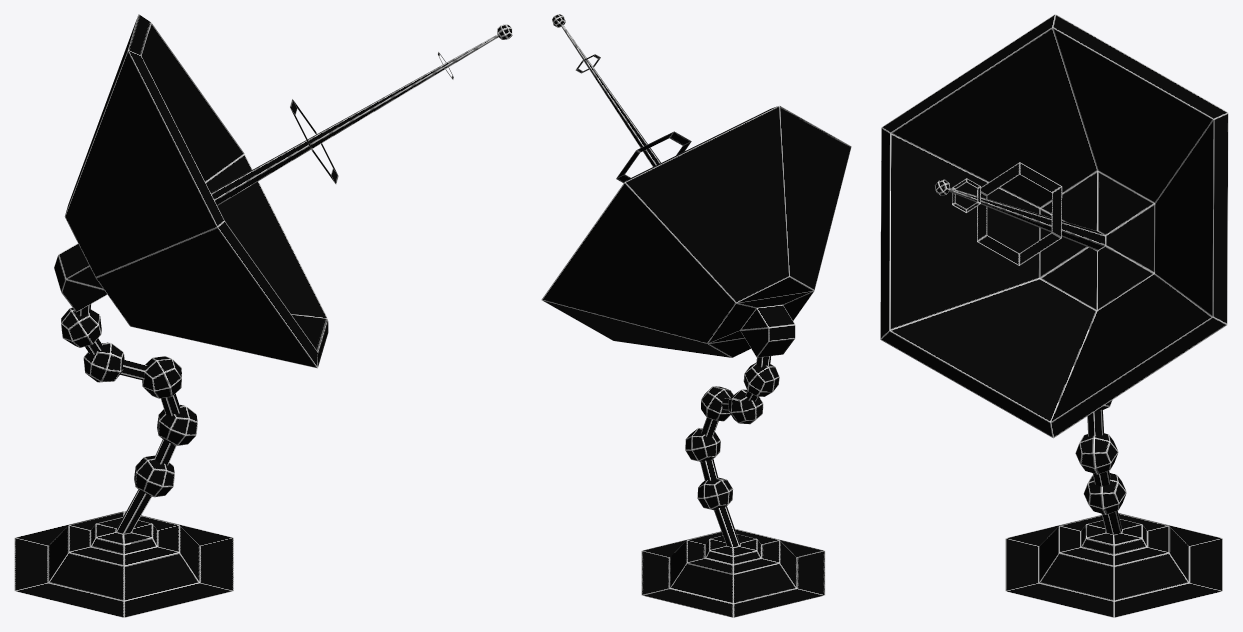
The picture shows the model from 3 angles, left to right: view 1: azimuth 30°, elevation 25°; view 2: azimuth 150°, elevation 25°; view 3: azimuth 270°, elevation 25°; orthographic projection. The views are drawn at different scales.
Parts seen in each view (by area): view 1: DD_06; view 2: DD_06; view 3: DD_06.
Part boxes in pixels (<box>): DD_06: <box>14,14,512,617</box>; DD_06: <box>541,14,851,617</box>; DD_06: <box>880,14,1228,617</box>.
Bounding box in the file's own units: 537 × 676 × 397.
1 material, 1 textured.
